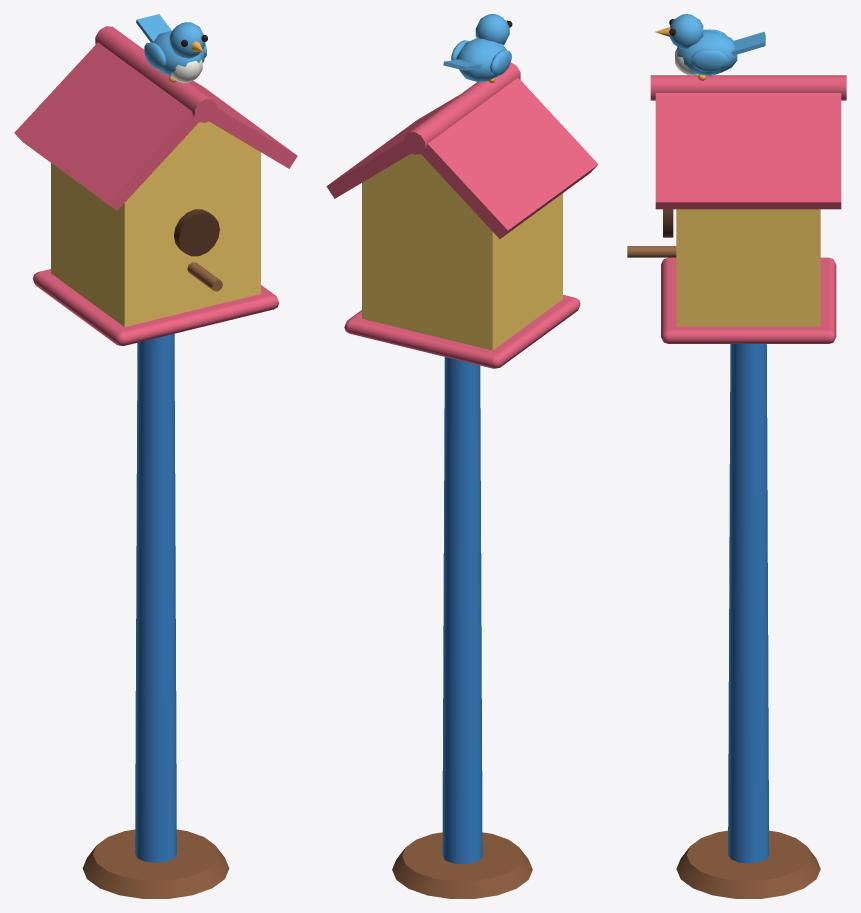
Rendered from birdhouse.glb.
3 renders of one model, left to right at view 1: azimuth 30°, elevation 25°; view 2: azimuth 150°, elevation 25°; view 3: azimuth 270°, elevation 25°, orthographic. The views are drawn at different scales.
Size of the model in its own units: 0.4168 by 1.83 by 0.425.
